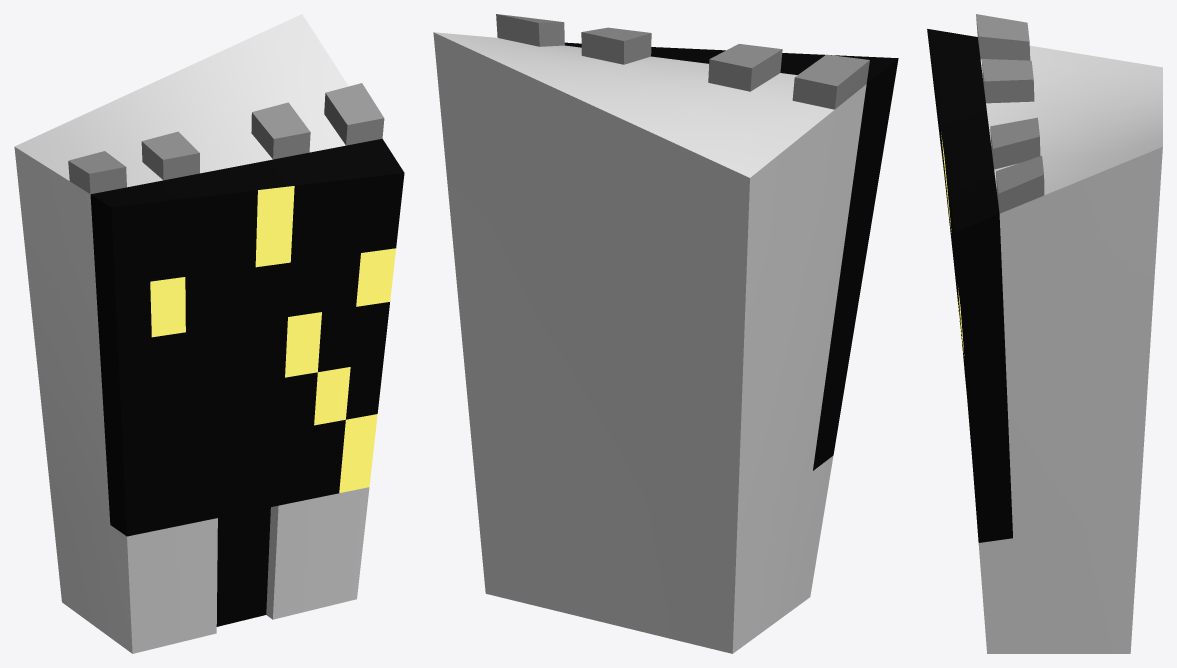
The model's file is Building02.fbx.
The picture shows the model from 3 angles, left to right: view 1: azimuth 30°, elevation 25°; view 2: azimuth 150°, elevation 25°; view 3: azimuth 270°, elevation 25°; orthographic projection. The views are drawn at different scales.
Visible parts, largest first — view 1: Building02; view 2: Building02; view 3: Building02.
Part boxes in pixels (x1=…): Building02: x1=14, y1=14, x2=404, y2=653; Building02: x1=433, y1=14, x2=898, y2=653; Building02: x1=927, y1=14, x2=1162, y2=653.
Size of the model in its own units: 411 by 655 by 268.
2 materials, 1 textured.
